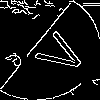V: (25, 25, 91, 78)
